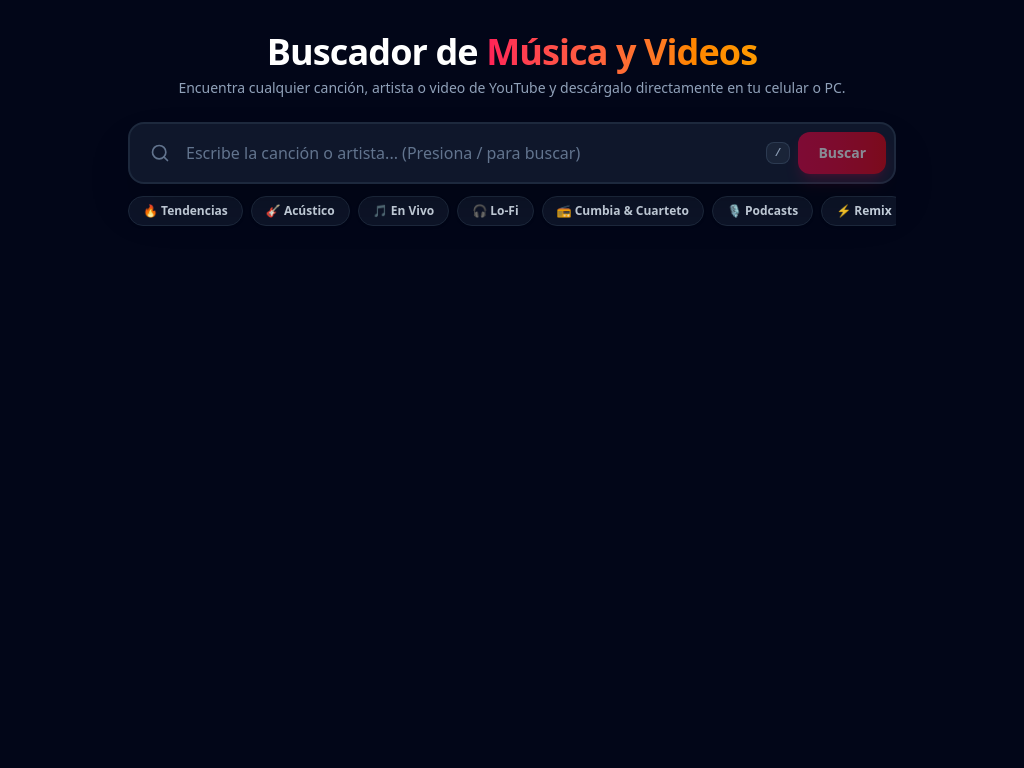
Test case: SearchHistory & Touch Theme Chips Tests › permite ejecutar una búsqueda con 1 toque al pulsar un término del historial
The width and height of the screenshot is (1024, 768).
Focus the field with placeholder "Escribe la canción o artista... (Presiona / para buscar)": (472, 153) [178, 133, 766, 173]
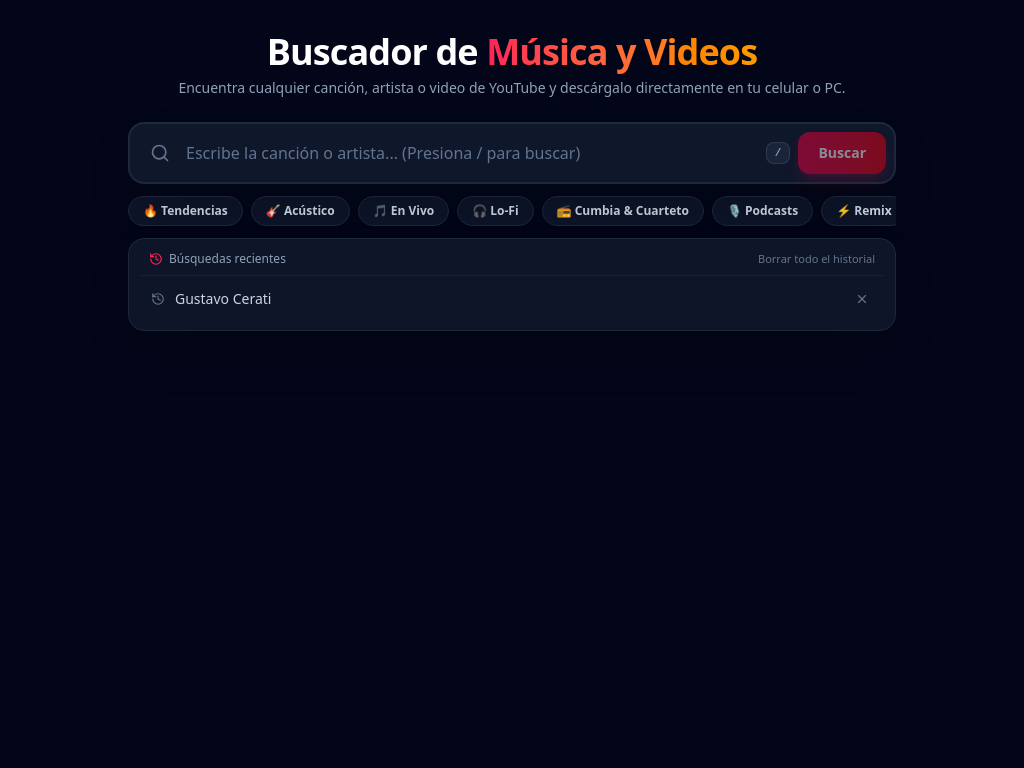
Click the text "Gustavo Cerati": (223, 299) [175, 289, 272, 309]
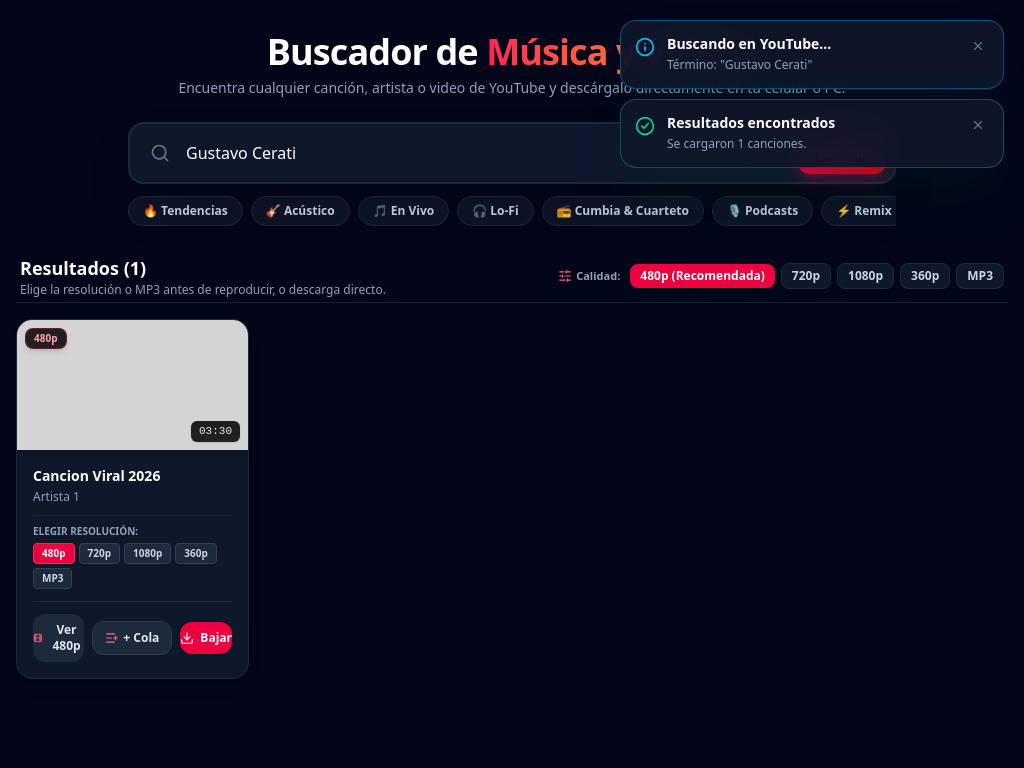
Expected: the field with placeholder "Escribe la canción o artista... (Presiona / para buscar)" holds "Gustavo Cerati", [178, 133, 734, 173]
